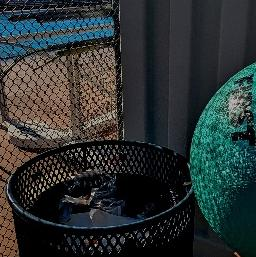algae: (188, 45, 256, 257)
